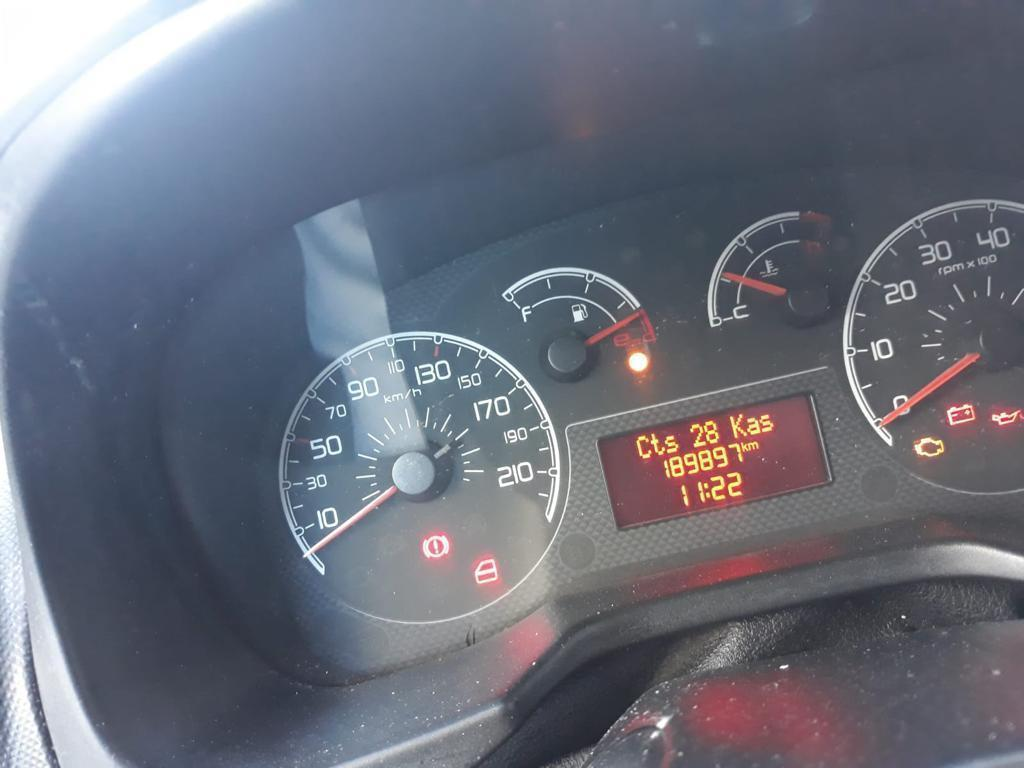1: (696, 480, 705, 503), (680, 483, 689, 506), (663, 459, 670, 479)
2: (726, 471, 743, 497), (689, 423, 706, 448), (709, 475, 725, 501)
7: (728, 442, 742, 462)
8: (703, 420, 719, 444), (668, 455, 684, 477), (697, 449, 713, 470)
9: (682, 452, 699, 475), (712, 446, 728, 468)
X: (729, 413, 747, 439), (636, 434, 652, 459), (650, 432, 665, 455), (745, 416, 760, 435), (664, 435, 679, 453), (758, 414, 773, 432), (747, 440, 759, 450), (703, 482, 710, 499), (740, 441, 748, 452)
odometer: (592, 386, 834, 532)
